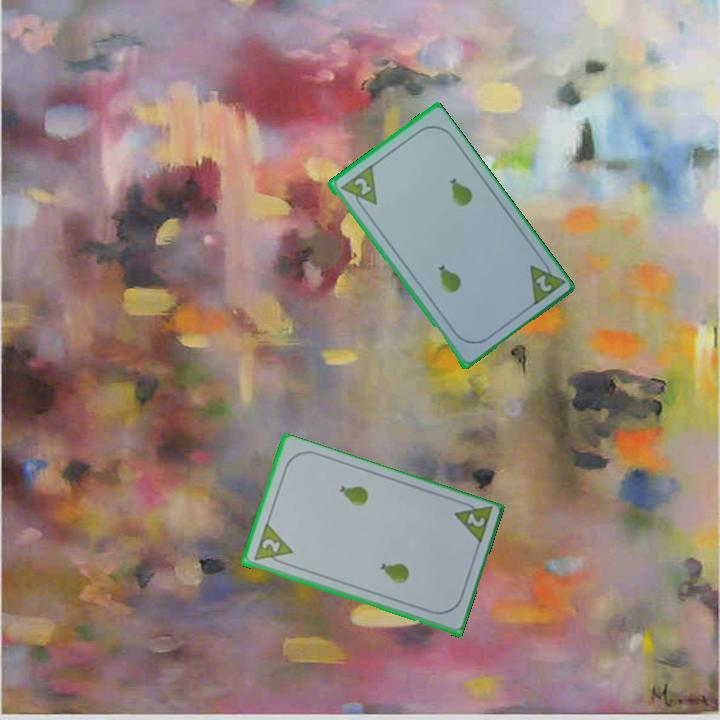2p: (450, 497, 495, 549), (336, 162, 380, 215), (531, 271, 555, 295), (258, 535, 283, 557)
